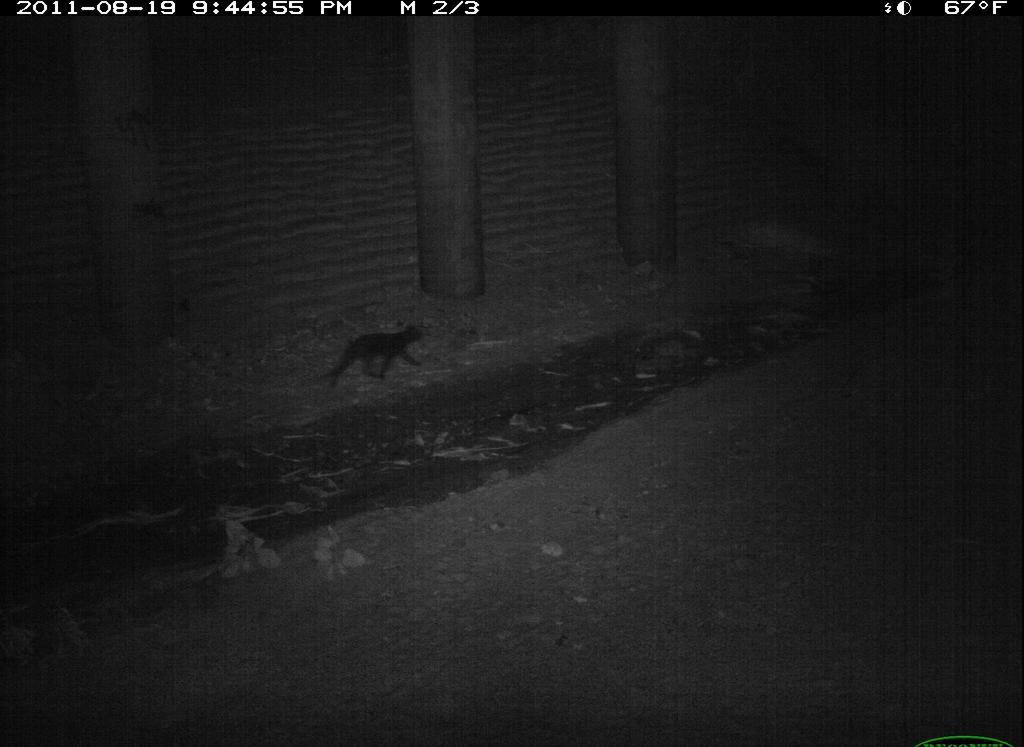cat: (636, 634, 864, 747)
